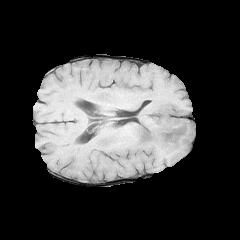glioma: (130, 104, 194, 152)
